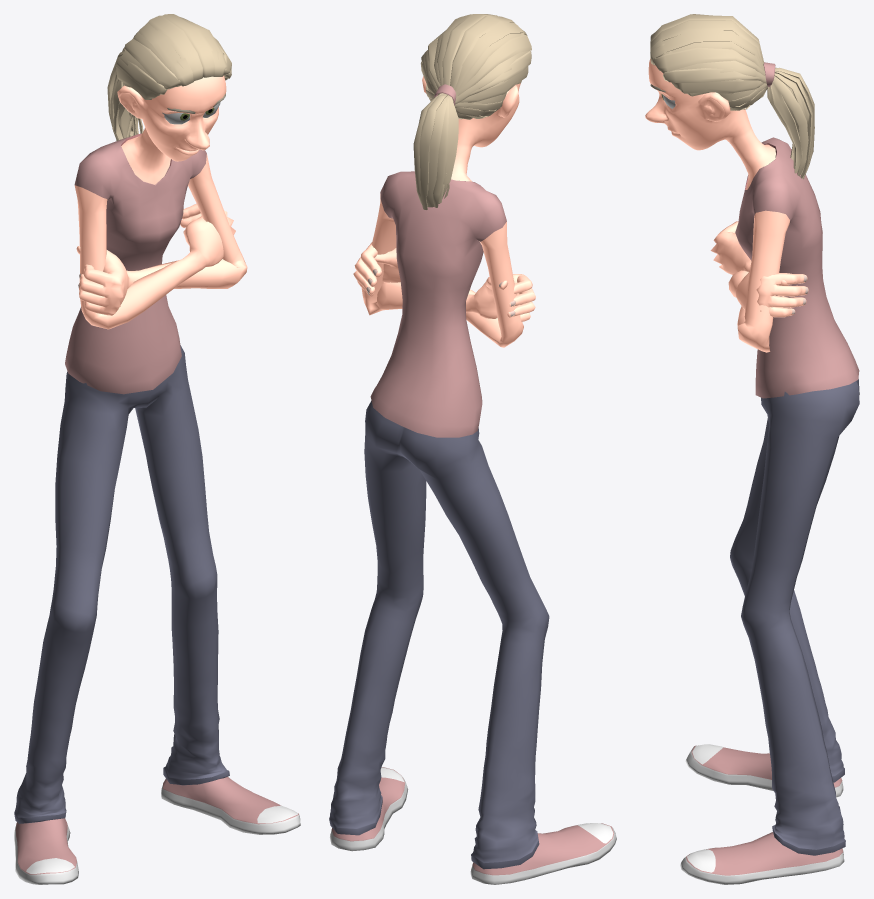
File: female_bad_ending.fbx
3 views of the same model, side by side, from view 1: azimuth 30°, elevation 25°; view 2: azimuth 150°, elevation 25°; view 3: azimuth 270°, elevation 25° (orthographic). The views are drawn at different scales.
Parts seen in each view (by area): view 1: eyeBall1Lf; view 2: eyeBall1Lf; view 3: eyeBall1Lf.
Part boxes in pixels (left/top/right/bottom): eyeBall1Lf: left=14, top=14, right=300, bottom=884; eyeBall1Lf: left=329, top=14, right=616, bottom=884; eyeBall1Lf: left=645, top=14, right=859, bottom=884.
Size of the model in its own units: 0.0283 by 0.0842 by 0.0202.
